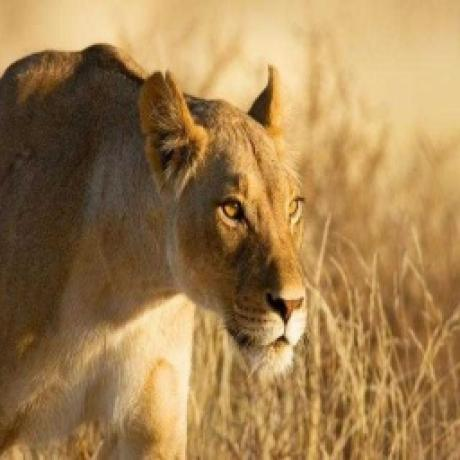Lion: (0, 36, 309, 460)
